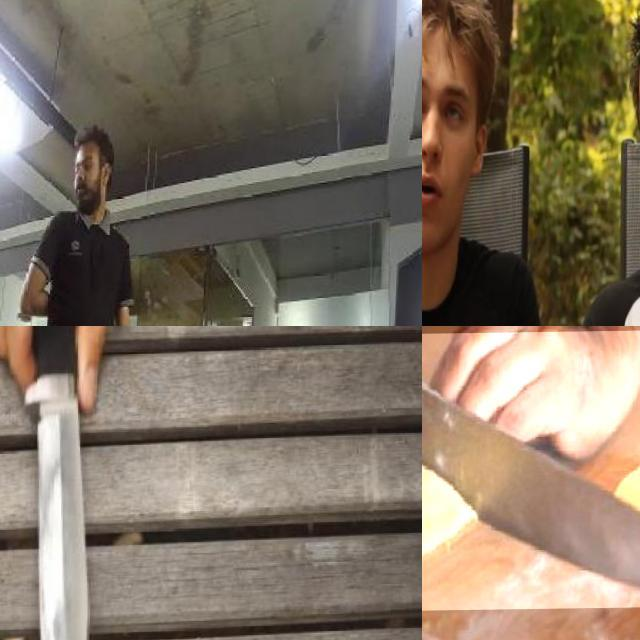-: (422, 330, 640, 613), (0, 326, 121, 640), (0, 423, 37, 640), (422, 16, 457, 212)
